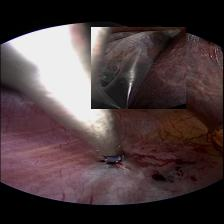Bipolar: (82, 140, 134, 170)
Specimen Bag: (91, 26, 186, 108)
